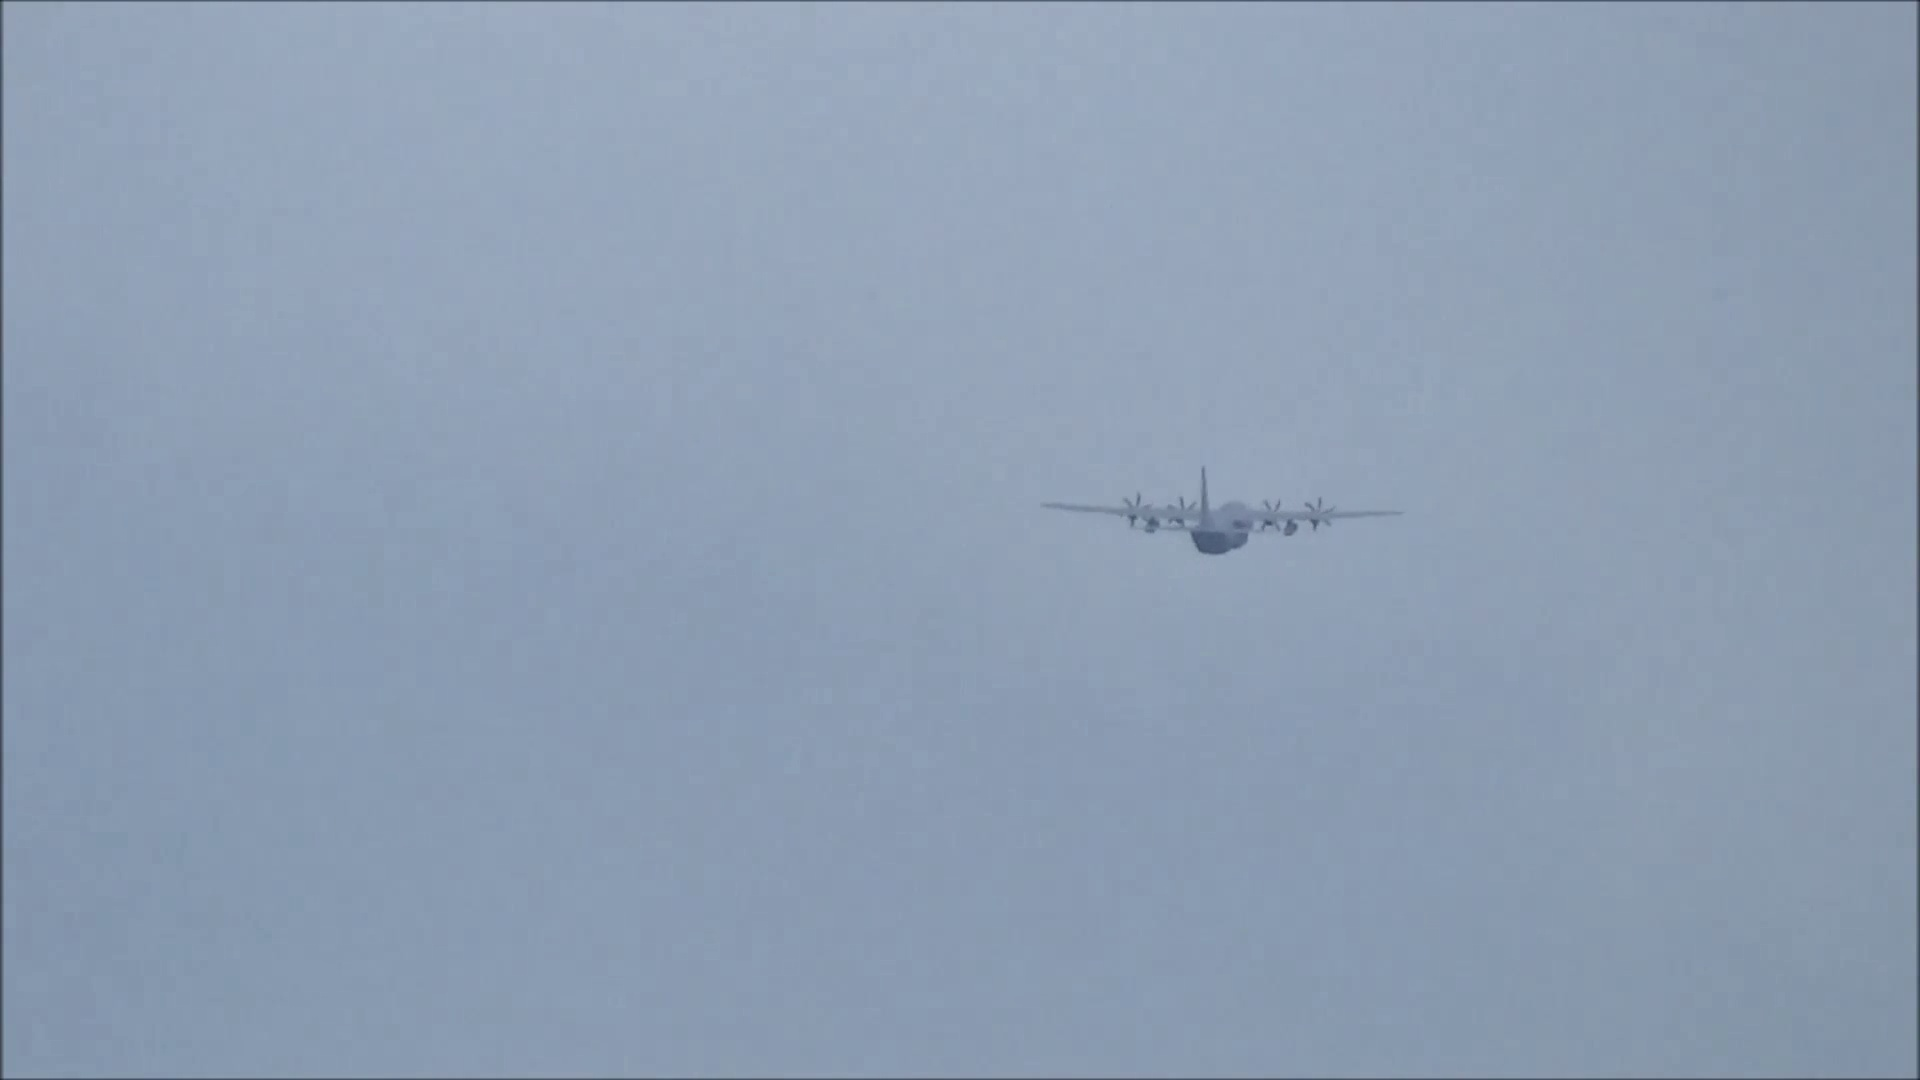Airplane: (1039, 454, 1408, 553)
